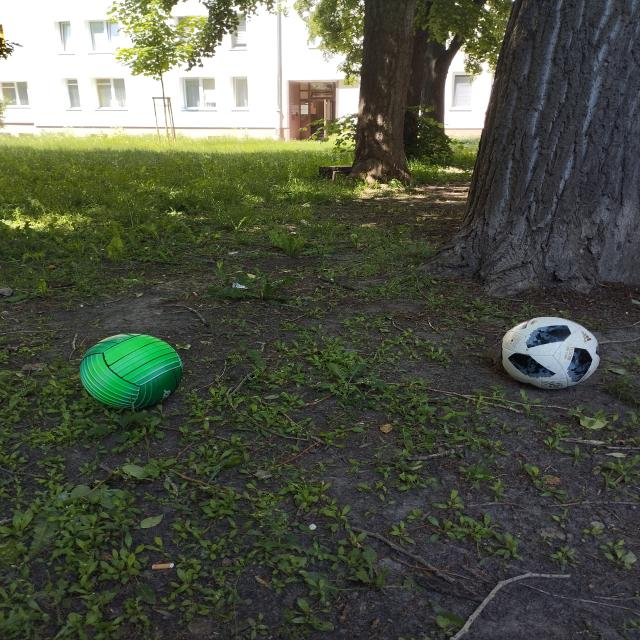nozna: (499, 316, 600, 389)
zielona: (80, 333, 184, 410)
